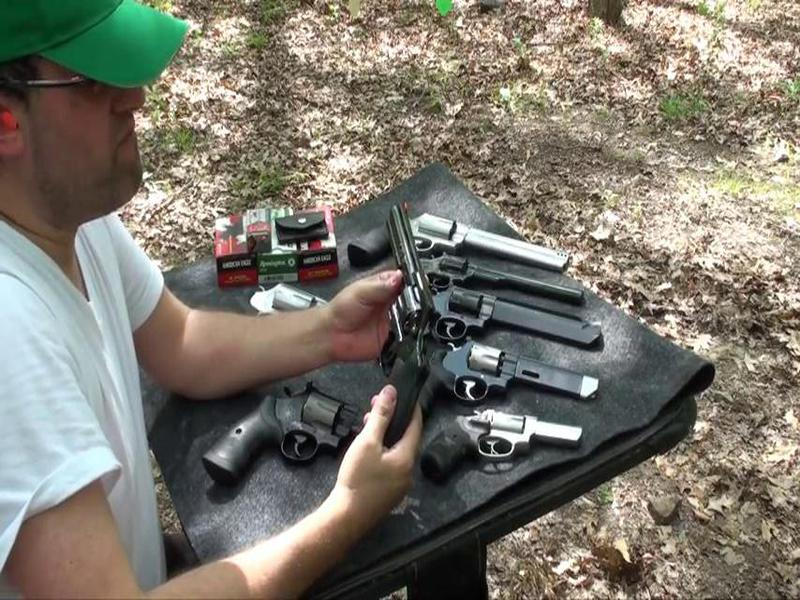Revolver: (345, 205, 454, 444)
